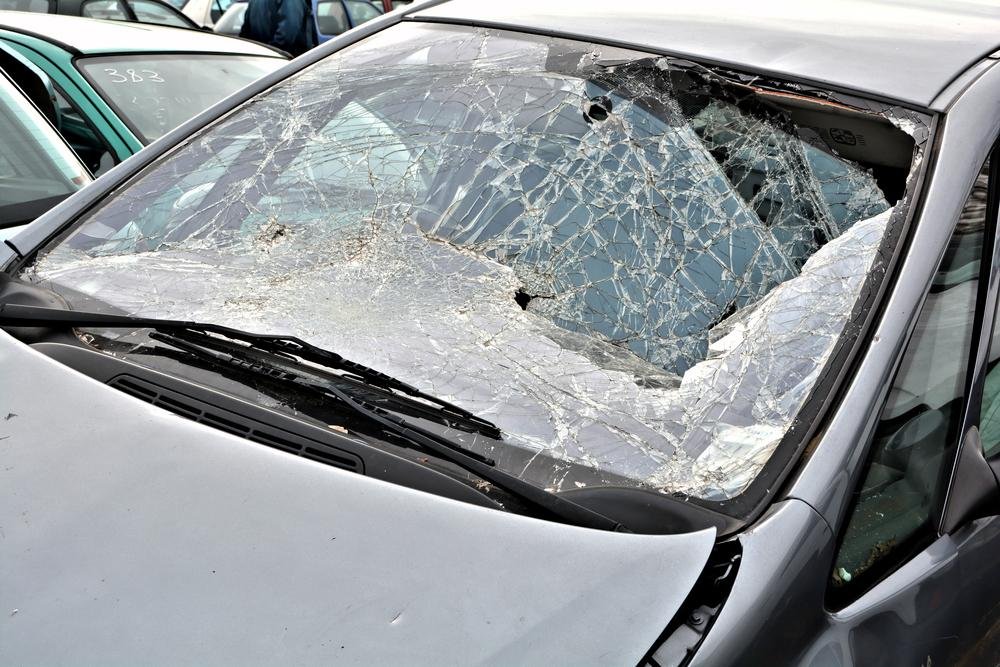dent: (748, 39, 817, 72)
glass shatter: (14, 21, 933, 520)
